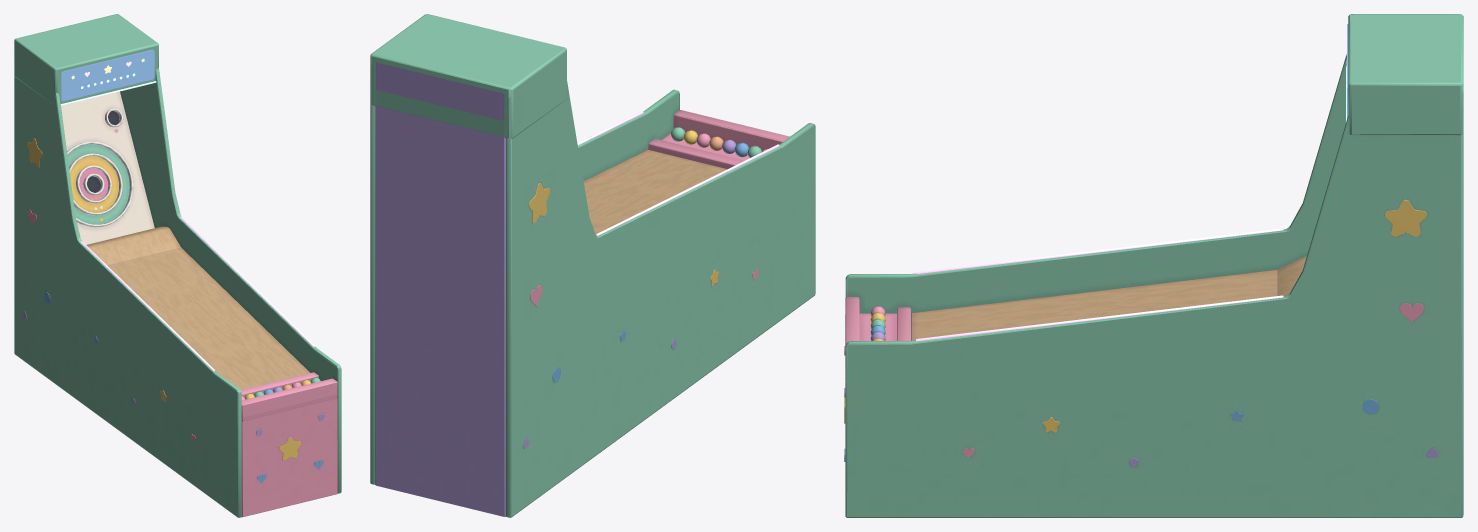
Rendered from skee_ball.glb.
The picture shows the model from 3 angles, left to right: view 1: azimuth 30°, elevation 25°; view 2: azimuth 150°, elevation 25°; view 3: azimuth 270°, elevation 25°; orthographic projection. The views are drawn at different scales.
Visible parts, largest first — view 1: skee-ball_ball_1; view 2: skee-ball_ball_1; view 3: skee-ball_ball_1.
Part boxes in pixels (x1,y1,x2,y2): skee-ball_ball_1: (14, 14, 341, 517); skee-ball_ball_1: (370, 14, 815, 517); skee-ball_ball_1: (844, 14, 1463, 517).
Bounding box in the file's own units: 0.8097 × 2.33 × 3.
Materials: 14 (1 with a texture image).
